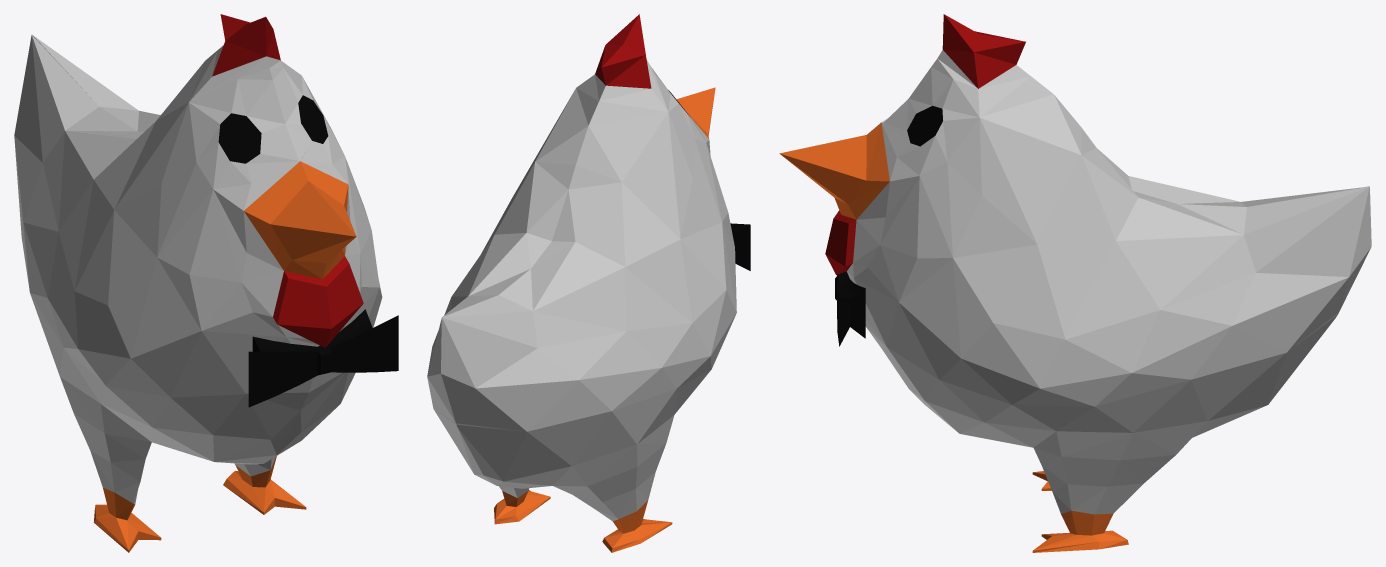
The model's file is Gallina.FBX.
3 views of the same model, side by side, from view 1: azimuth 30°, elevation 25°; view 2: azimuth 150°, elevation 25°; view 3: azimuth 270°, elevation 25° (orthographic). The views are drawn at different scales.
Visible parts, largest first — view 1: GeoSphere001; view 2: GeoSphere001; view 3: GeoSphere001.
Part boxes in pixels (x1,y1,x2,y2): GeoSphere001: [14, 14, 398, 552]; GeoSphere001: [427, 14, 750, 552]; GeoSphere001: [779, 14, 1371, 552].
Bounding box in the file's own units: 60.82 × 113 × 122.
